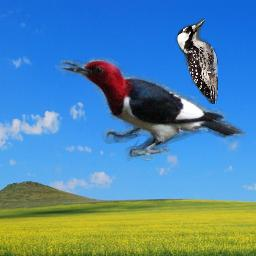Woodpecker: (55, 55, 246, 161), (175, 18, 218, 104)
